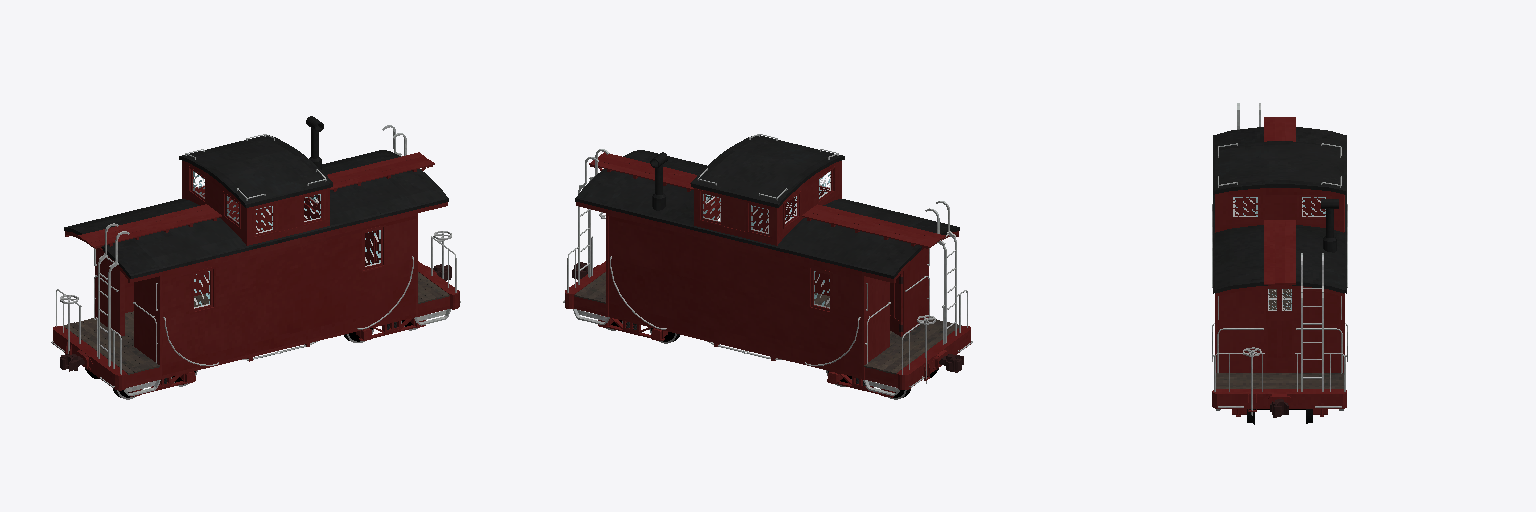
3 views of the same model, side by side, from view 1: azimuth 30°, elevation 25°; view 2: azimuth 150°, elevation 25°; view 3: azimuth 270°, elevation 25° (orthographic).
Visible parts, largest first — view 1: SHELL_Cube.349, CABOOSE_FRAME.034_Cube.004, Footirons_2_Cube.565, Boards_2_Cube.325, FRAME_Cube.005, BOGEY_REAR_Cube.279; view 2: SHELL_Cube.349, CABOOSE_FRAME.034_Cube.004, Footirons_2_Cube.565, Boards_2_Cube.325, FRAME_Cube.005, BOGEY_REAR_Cube.279; view 3: SHELL_Cube.349, CABOOSE_FRAME.034_Cube.004, Footirons_2_Cube.565, Boards_2_Cube.325.
Boxes of the visible parts, x1=… form: SHELL_Cube.349: x1=53, y1=152, x2=459, y2=390; CABOOSE_FRAME.034_Cube.004: x1=64, y1=116, x2=448, y2=278; Footirons_2_Cube.565: x1=51, y1=125, x2=460, y2=395; Boards_2_Cube.325: x1=64, y1=272, x2=449, y2=374; FRAME_Cube.005: x1=126, y1=306, x2=449, y2=387; BOGEY_REAR_Cube.279: x1=356, y1=315, x2=425, y2=340; SHELL_Cube.349: x1=565, y1=152, x2=970, y2=389; CABOOSE_FRAME.034_Cube.004: x1=575, y1=135, x2=959, y2=278; Footirons_2_Cube.565: x1=563, y1=134, x2=972, y2=395; Boards_2_Cube.325: x1=574, y1=272, x2=961, y2=374; FRAME_Cube.005: x1=574, y1=305, x2=897, y2=387; BOGEY_REAR_Cube.279: x1=598, y1=315, x2=667, y2=340; SHELL_Cube.349: x1=1212, y1=117, x2=1346, y2=411; CABOOSE_FRAME.034_Cube.004: x1=1213, y1=127, x2=1346, y2=293; Footirons_2_Cube.565: x1=1212, y1=103, x2=1347, y2=415; Boards_2_Cube.325: x1=1216, y1=289, x2=1343, y2=388.
Size of the model in its own units: 22.4 by 10.81 by 6.82.
9 materials, 3 textured.